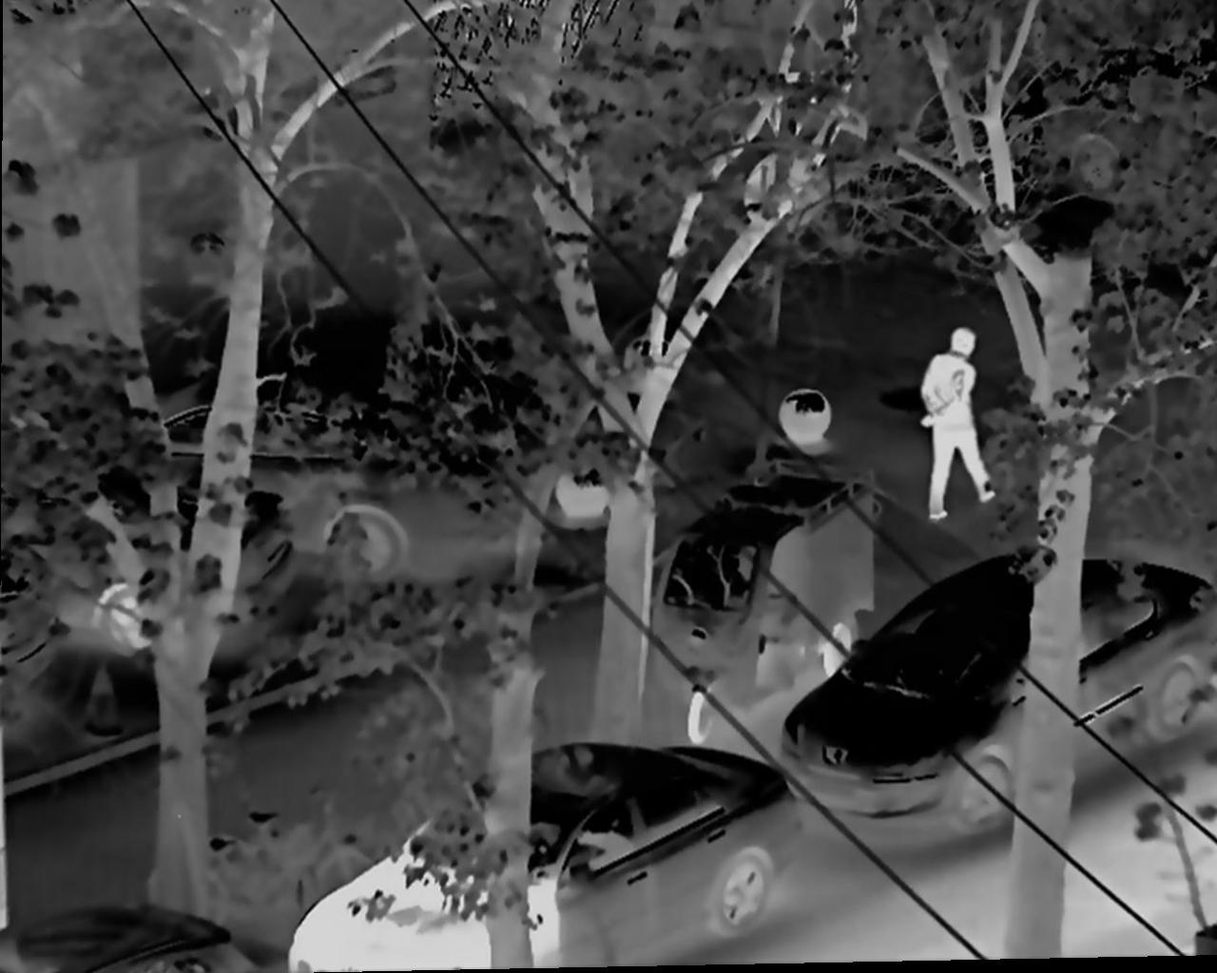person: (913, 322, 998, 530)
